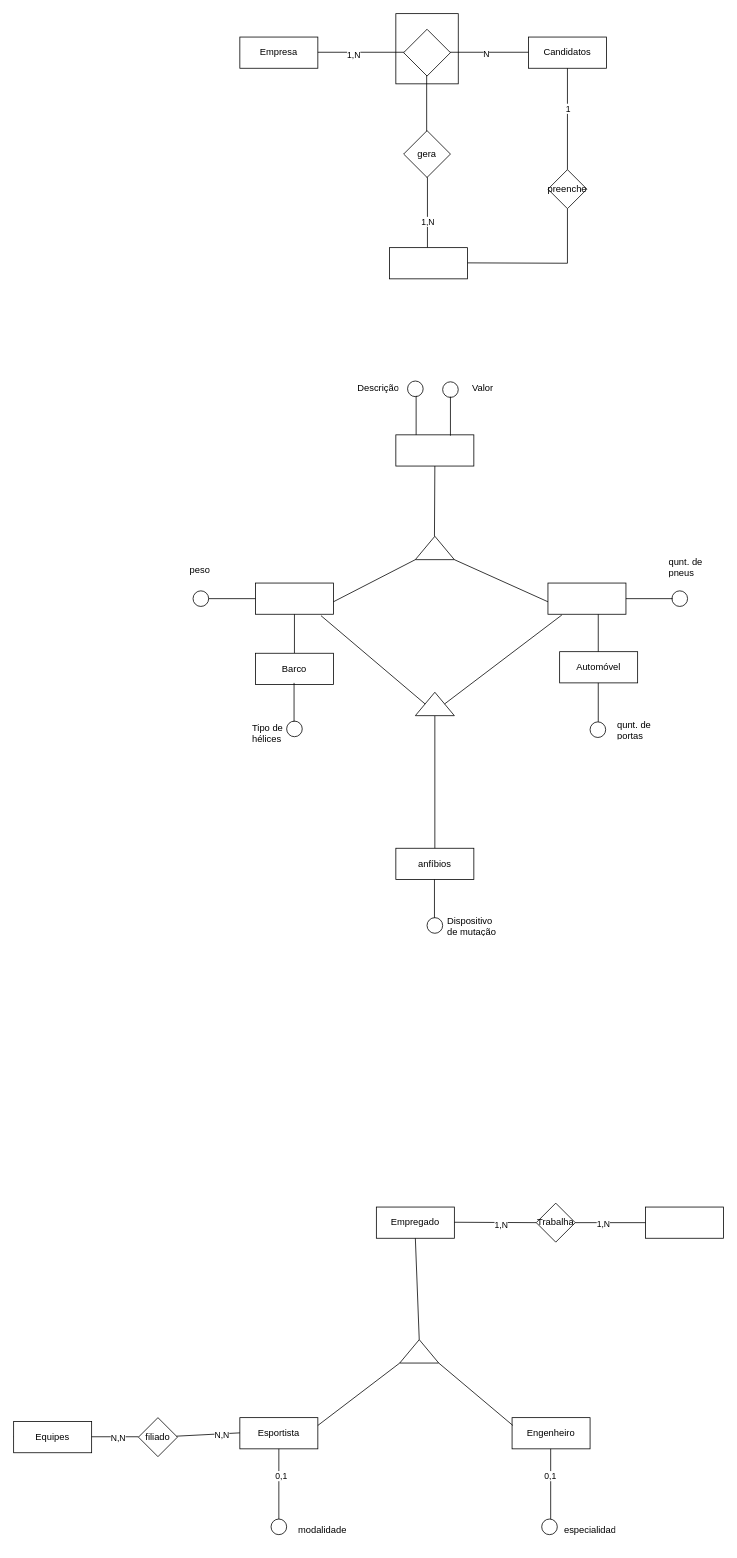
Image size: 737x1558. Some labels were removed from this diagram. Here are the shapes that lost their labels. From the top down, the box of each, then its label:
(403, 28, 450, 76): entrevista
(389, 247, 468, 279): Emprego
(395, 434, 474, 466): veículos
(255, 582, 333, 614): aquáticos
(547, 582, 626, 614): terrestres
(645, 1206, 723, 1238): Projetos
